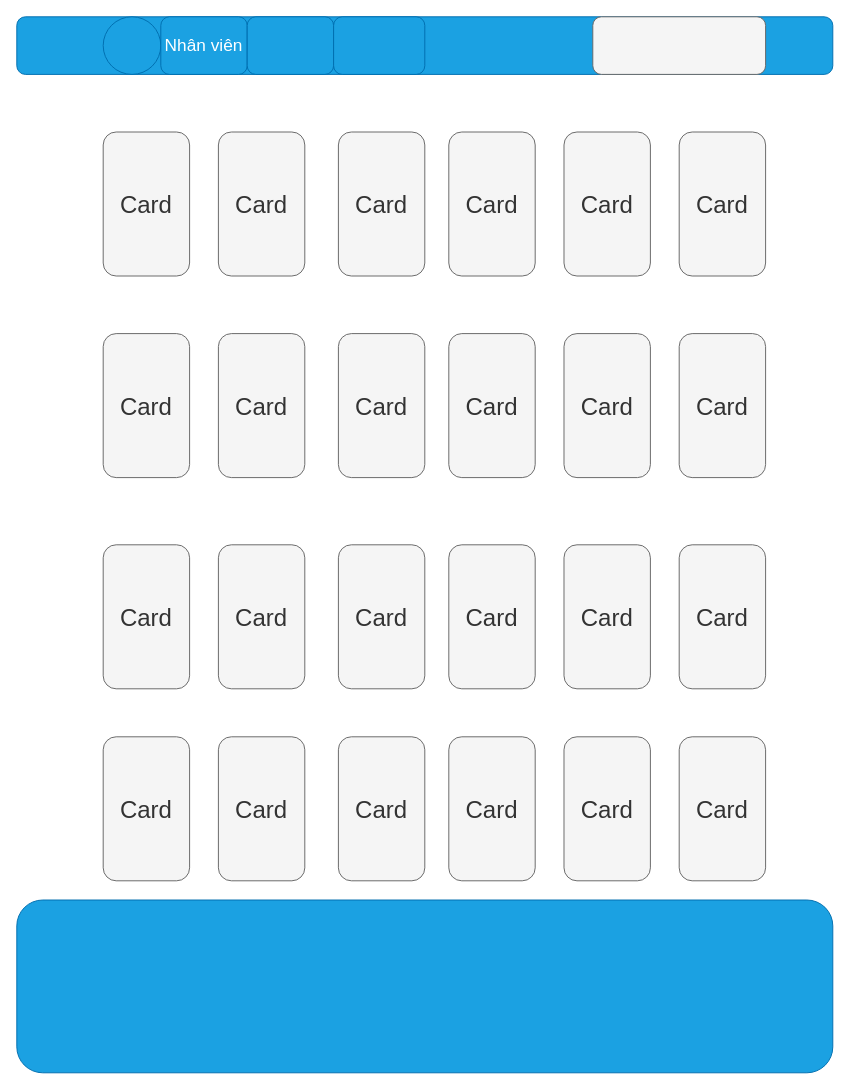
Image size: 850x1090. Some labels were removed from this diagram. The box of each missing label's shape, as (x1, y1, x2, y2) in pixels:
Bảng lương: (333, 16, 425, 74)
Footer: (16, 899, 833, 1073)
Logo: (102, 16, 161, 74)
Phòng ban: (246, 16, 334, 74)
Search...: (592, 16, 766, 74)
